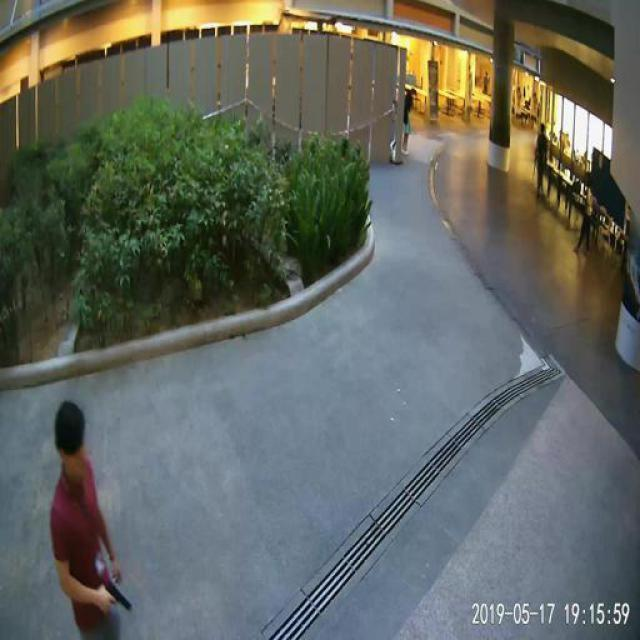weapon: (100, 582, 132, 614)
